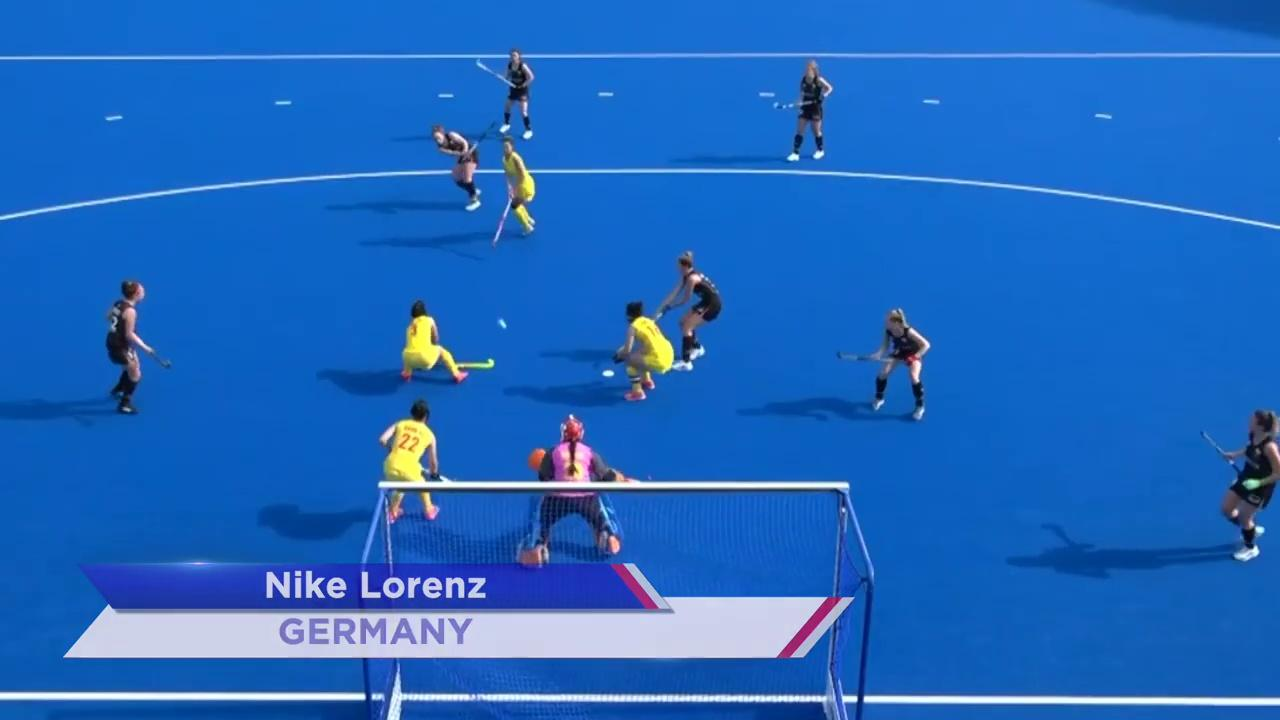ball: (589, 361, 616, 384)
